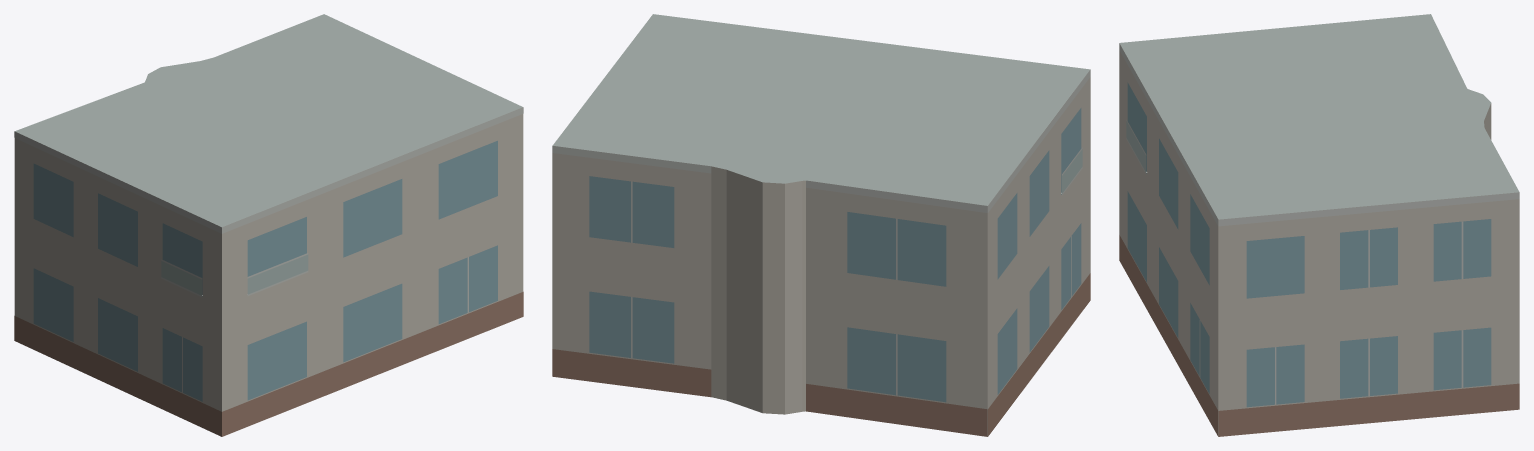
The model's file is survey-upis-32624270.glb.
The picture shows the model from 3 angles, left to right: view 1: azimuth 30°, elevation 25°; view 2: azimuth 150°, elevation 25°; view 3: azimuth 270°, elevation 25°; orthographic projection. The views are drawn at different scales.
Parts seen in each view (by area): view 1: survey-upis-32624270.tmp; view 2: survey-upis-32624270.tmp; view 3: survey-upis-32624270.tmp.
Boxes of the visible parts, x1=… form: survey-upis-32624270.tmp: x1=14, y1=14, x2=523, y2=436; survey-upis-32624270.tmp: x1=552, y1=14, x2=1090, y2=436; survey-upis-32624270.tmp: x1=1119, y1=14, x2=1519, y2=436.
Size of the model in its own units: 15.84 by 7.8 by 13.04.
